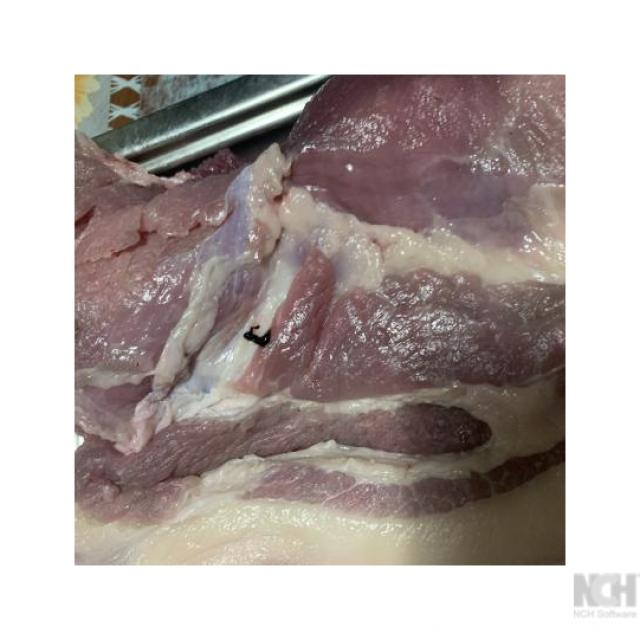rotten meat: (49, 46, 576, 580)
